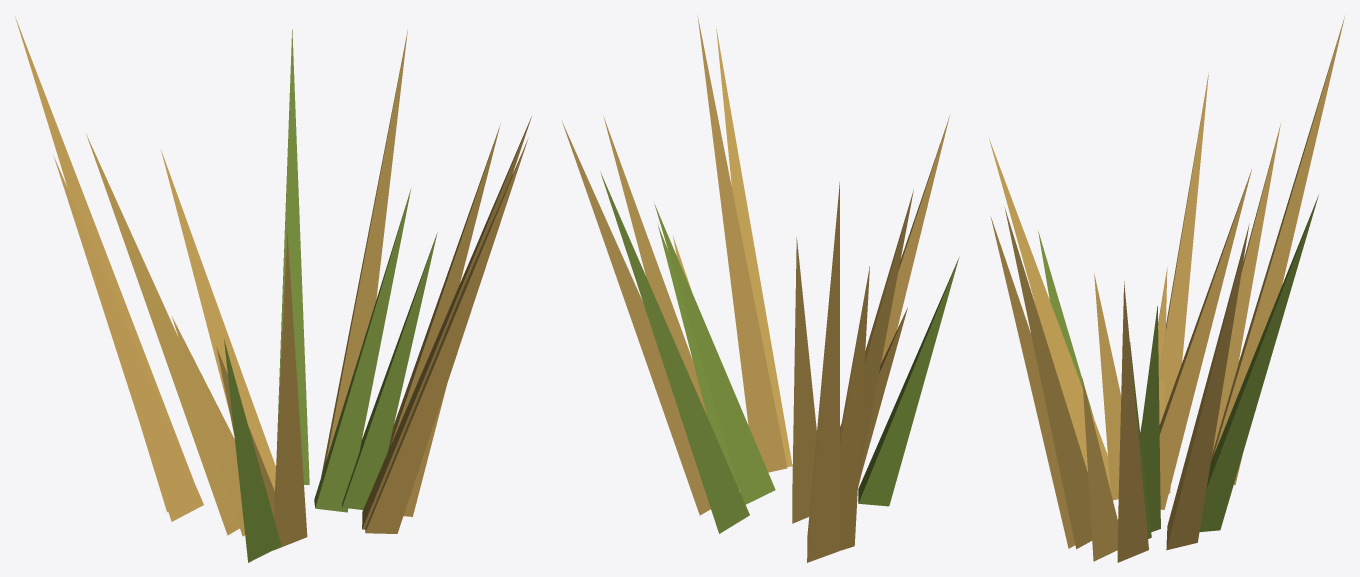
Rendered from grastuva_2.glb.
3 views of the same model, side by side, from view 1: azimuth 30°, elevation 25°; view 2: azimuth 150°, elevation 25°; view 3: azimuth 270°, elevation 25° (orthographic). The views are drawn at different scales.
Parts seen in each view (by area): view 1: grastuva_2; view 2: grastuva_2; view 3: grastuva_2.
Boxes of the visible parts, <box> form: grastuva_2: <box>15,16,531,562</box>; grastuva_2: <box>562,16,959,562</box>; grastuva_2: <box>989,16,1344,562</box>.
Bounding box in the file's own units: 0.6574 × 0.7944 × 0.5975.
